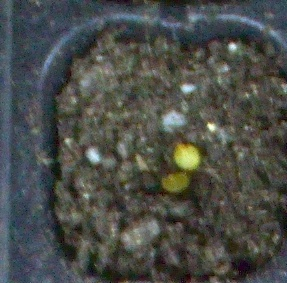chilli seed: (173, 141, 202, 171), (160, 171, 191, 195)
